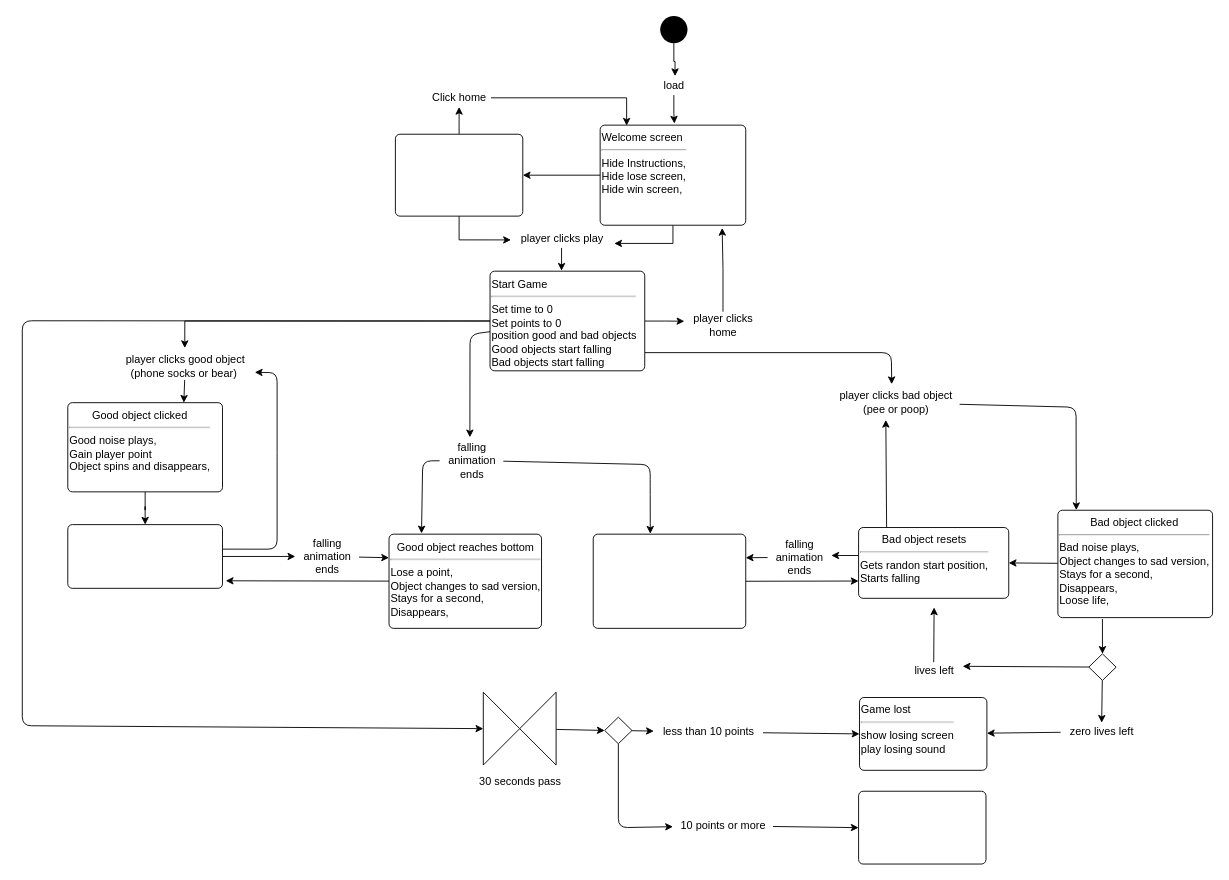
Image size: 1229x880. Some labels were removed from this diagram. The box of each missing label's shape, as (x1, y1, x2, y2) in pixels:
Bad object reaches bottom Disappears,: (592, 533, 746, 628)
Game won show winning screen play winning sound: (858, 790, 986, 864)
Good object resets Object gets random position Object starts falling: (67, 524, 222, 588)
Instructions screen Show instructions screen: (394, 133, 523, 216)
